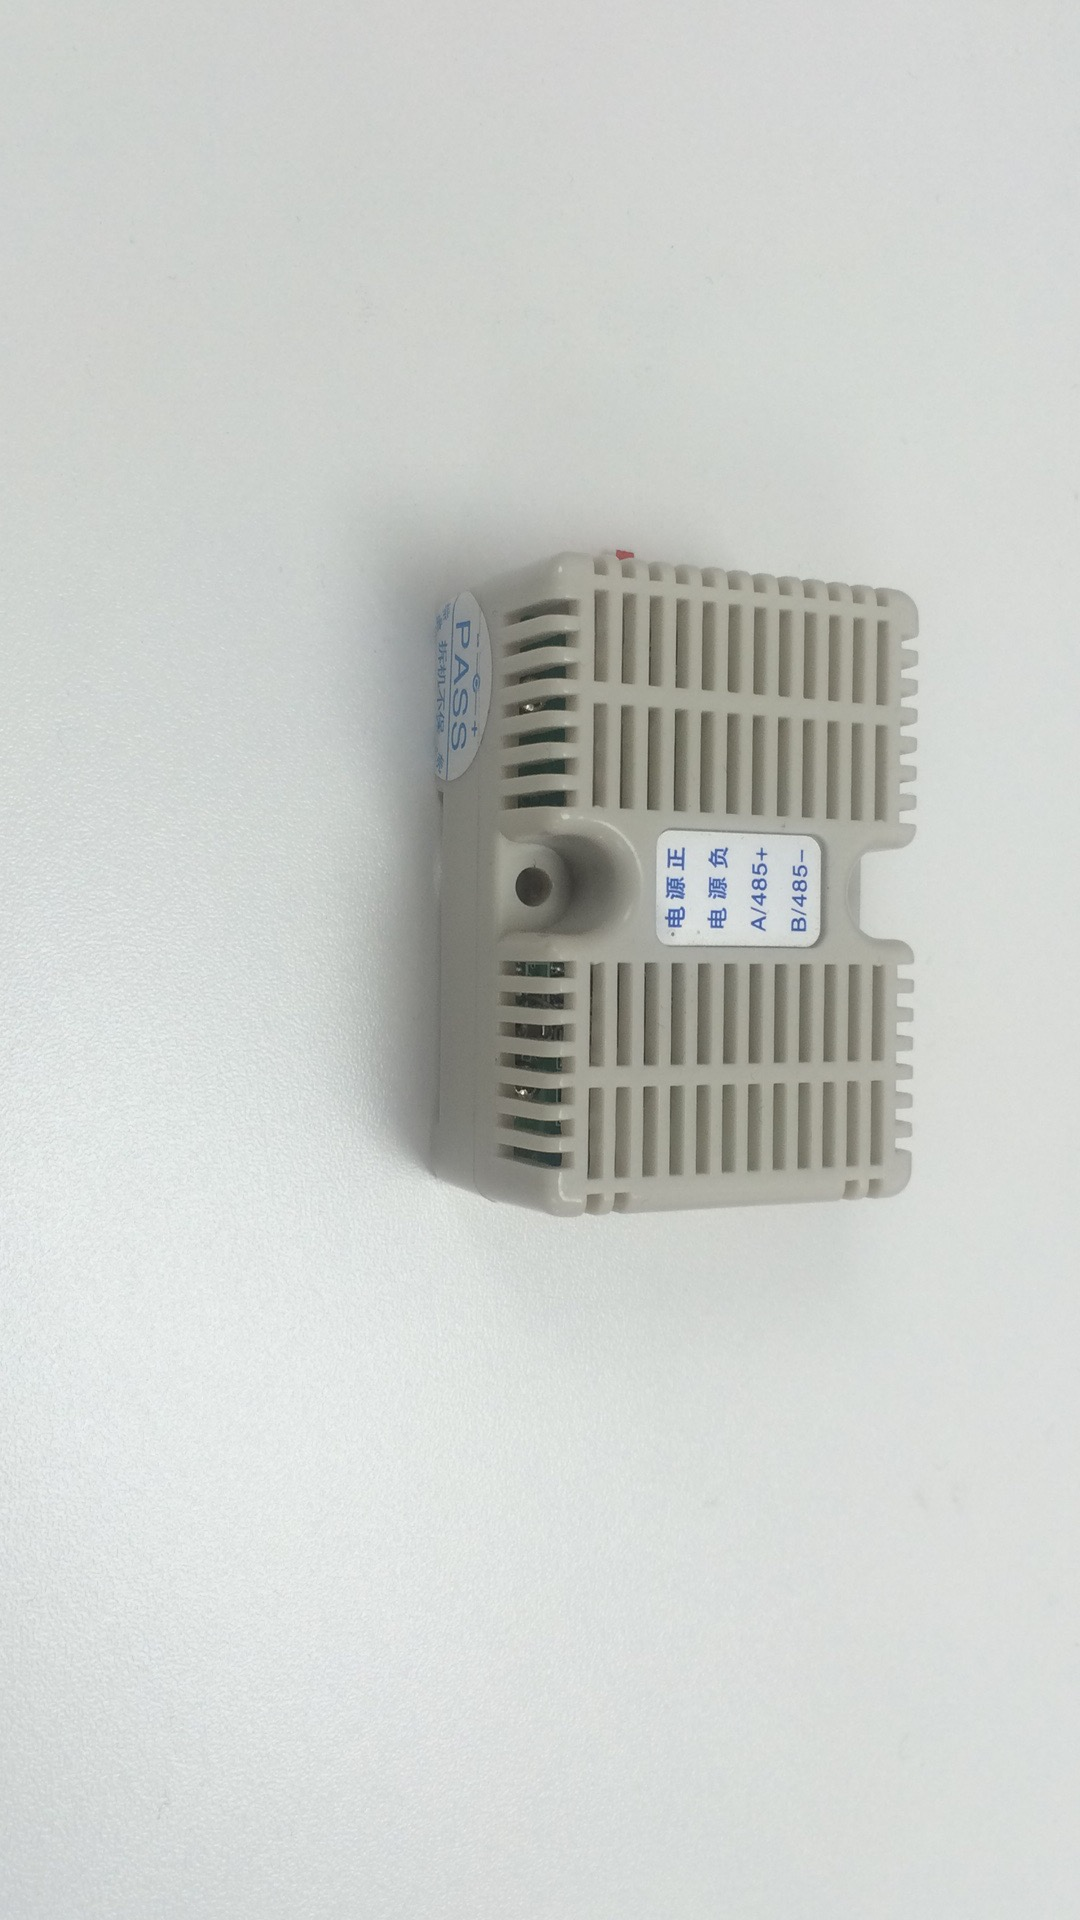temperature: (417, 534, 949, 1238)
